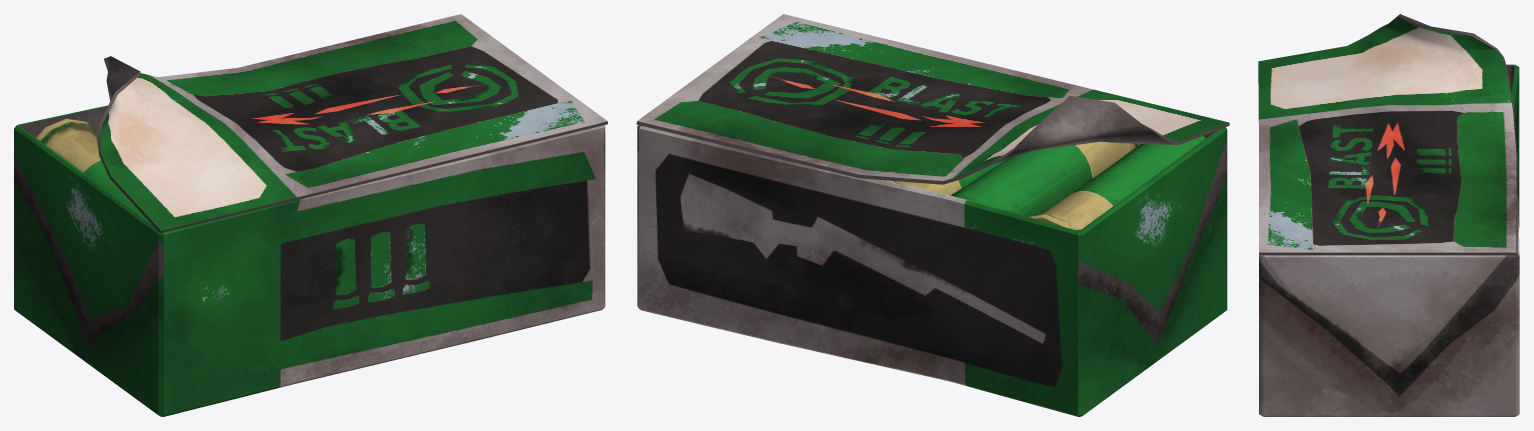
The model's file is ShotgunBirdshotBox.fbx.
3 renders of one model, left to right at view 1: azimuth 30°, elevation 25°; view 2: azimuth 150°, elevation 25°; view 3: azimuth 270°, elevation 25°, orthographic. The views are drawn at different scales.
Visible parts, largest first — view 1: ShotgunBirdshotBox; view 2: ShotgunBirdshotBox; view 3: ShotgunBirdshotBox.
Boxes of the visible parts, x1,y1,x2,y2 form: ShotgunBirdshotBox: [14, 14, 607, 416]; ShotgunBirdshotBox: [636, 14, 1229, 416]; ShotgunBirdshotBox: [1258, 14, 1519, 416].
Bounding box in the file's own units: 24.59 × 13.67 × 13.94.
Materials: 2 (2 with a texture image).
